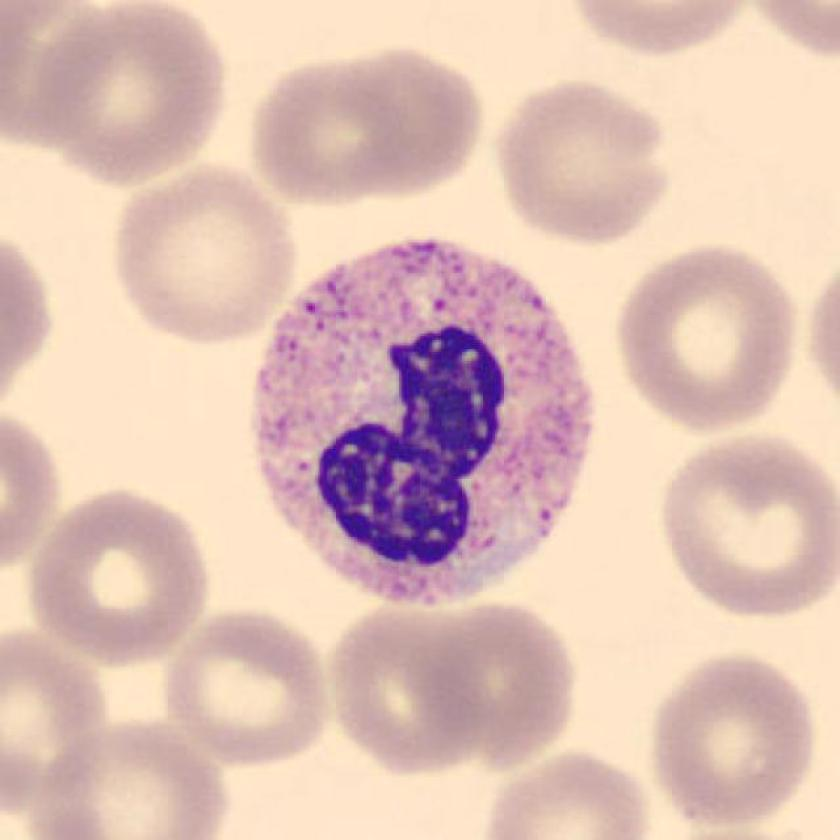neutrophil: (251, 240, 595, 601)
